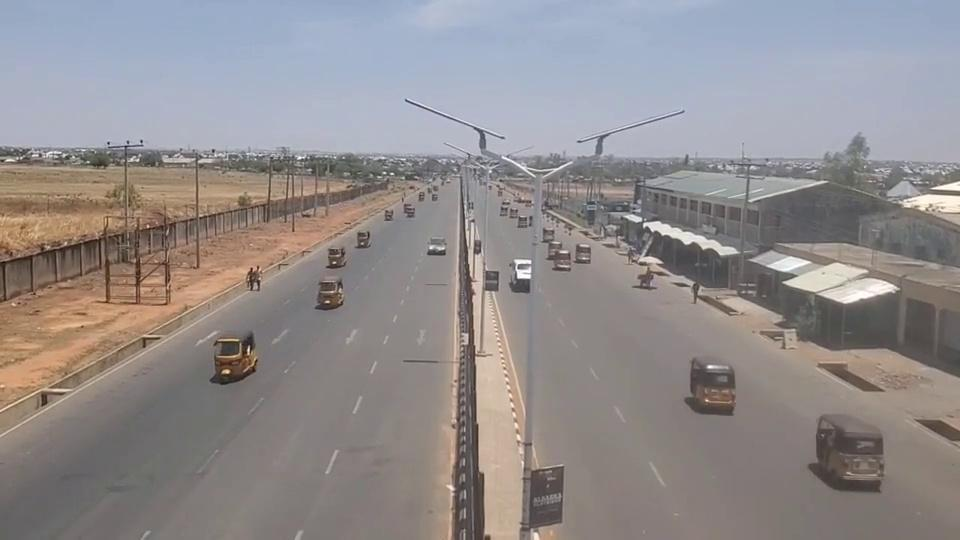bus: (511, 259, 533, 291)
car: (427, 237, 447, 255)
keke: (814, 412, 885, 487), (689, 355, 736, 412), (212, 329, 258, 382), (317, 276, 344, 308), (327, 246, 347, 267), (575, 243, 592, 263), (357, 231, 371, 248)
